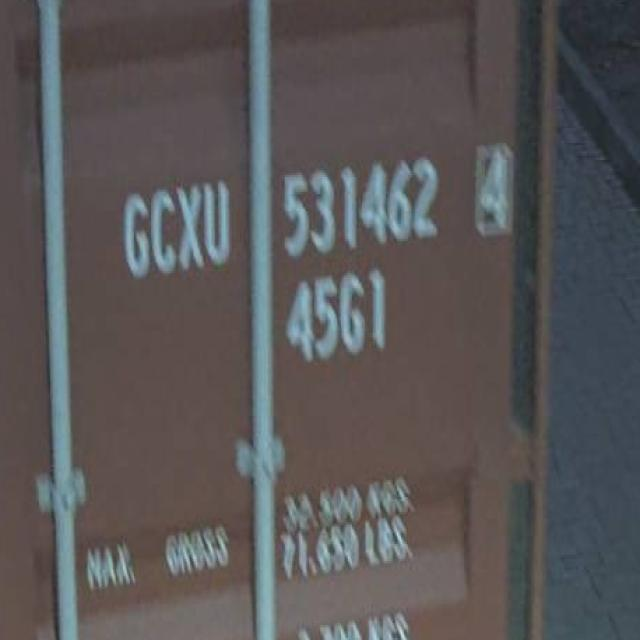dv: (465, 142, 516, 240)
owner: (121, 172, 236, 280)
serial: (276, 148, 449, 256)
size: (271, 260, 391, 370)
